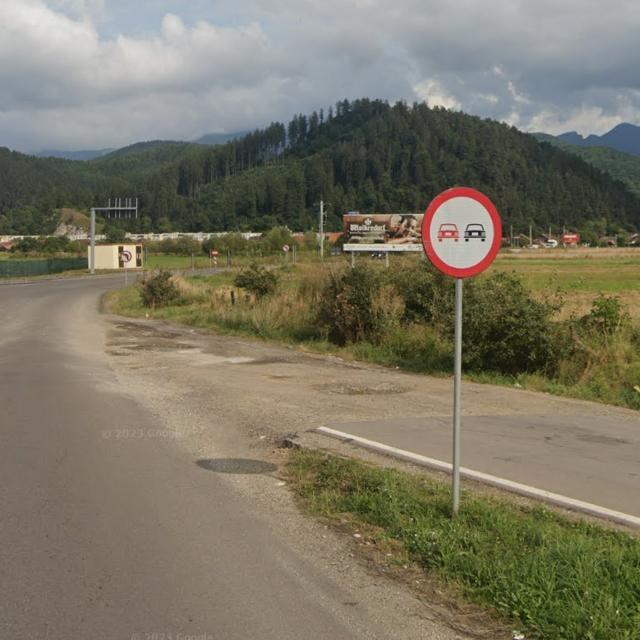forb_overtake: (422, 183, 501, 277)
